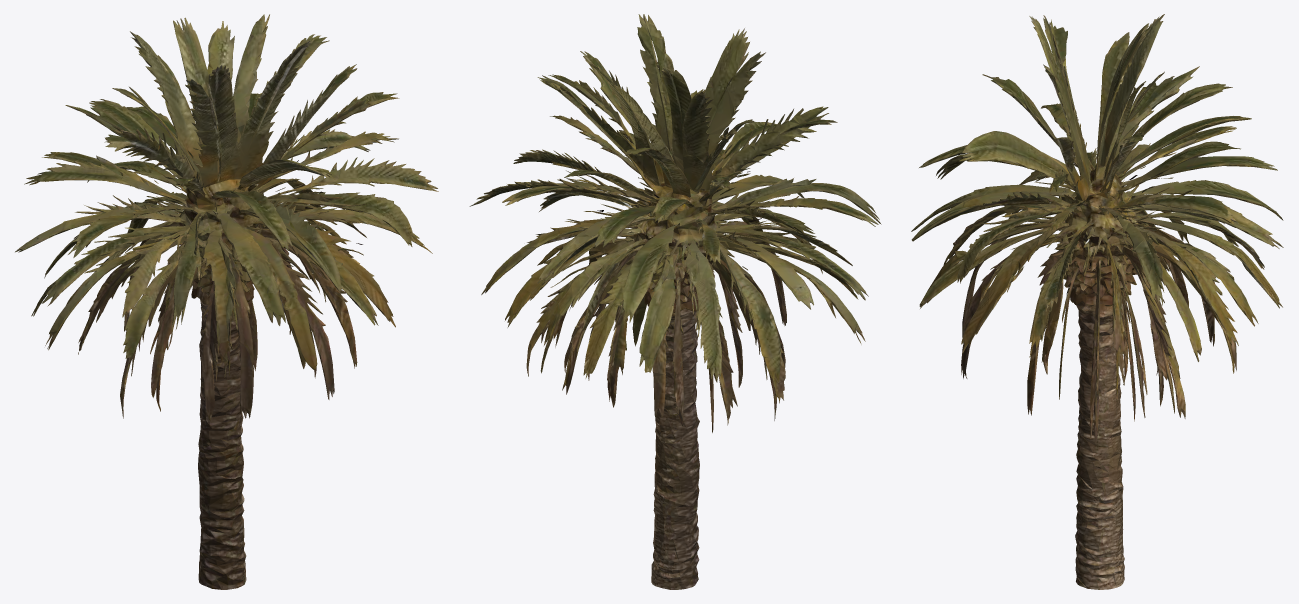
File: palm_tree.glb
3 views of the same model, side by side, from view 1: azimuth 30°, elevation 25°; view 2: azimuth 150°, elevation 25°; view 3: azimuth 270°, elevation 25° (orthographic). The views are drawn at different scales.
Parts seen in each view (by area): view 1: world; view 2: world; view 3: world.
Part boxes in pixels (left/top/right/bottom): world: left=15, top=14, right=438, bottom=589; world: left=469, top=14, right=881, bottom=589; world: left=911, top=14, right=1283, bottom=589.
Size of the model in its own units: 1.43 by 1.99 by 1.23.
1 material, 1 textured.
